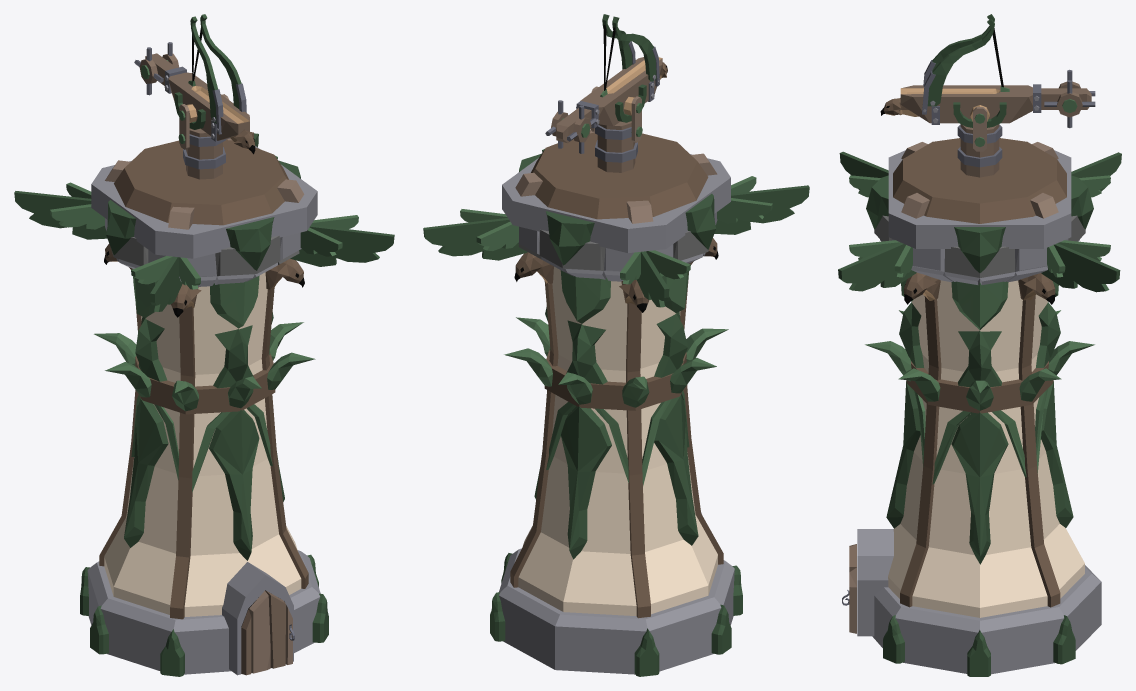
Rendered from Ballista_Tower_LVL_4.gltf.
3 renders of one model, left to right at view 1: azimuth 30°, elevation 25°; view 2: azimuth 150°, elevation 25°; view 3: azimuth 270°, elevation 25°, orthographic.
Visible parts, largest first — view 1: Ballista_Tower_LVL_4_Body, Ballista_Tower_LVL_4_Head; view 2: Ballista_Tower_LVL_4_Body, Ballista_Tower_LVL_4_Head; view 3: Ballista_Tower_LVL_4_Body, Ballista_Tower_LVL_4_Head.
Boxes of the visible parts, x1,y1,x2,y2 form: Ballista_Tower_LVL_4_Body: (14, 133, 394, 676); Ballista_Tower_LVL_4_Head: (91, 14, 317, 258); Ballista_Tower_LVL_4_Body: (423, 149, 809, 676); Ballista_Tower_LVL_4_Head: (502, 14, 730, 252); Ballista_Tower_LVL_4_Body: (838, 151, 1121, 676); Ballista_Tower_LVL_4_Head: (866, 14, 1095, 256).
Size of the model in its own units: 3.31 by 7.82 by 3.31.
2 materials, 2 textured.
